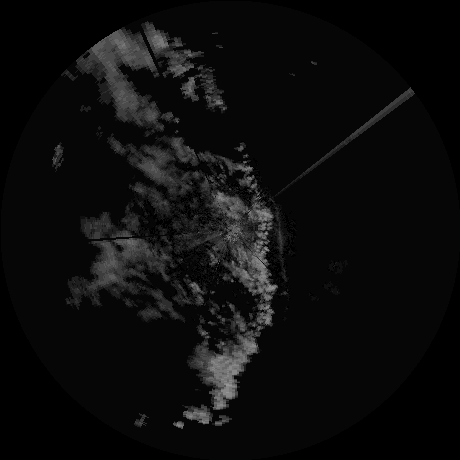frontgust: (274, 207, 289, 286)
